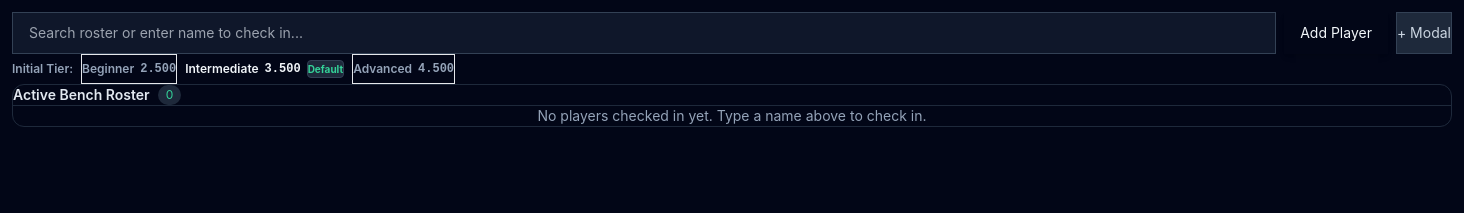
Test: RosterCheckInList › toggles player status from QUEUED to RESTING and back
Type "Greysia Polii" into the field with placeholder "Search roster or enter name to check in..." at (644, 33), box [12,12,1276,54]
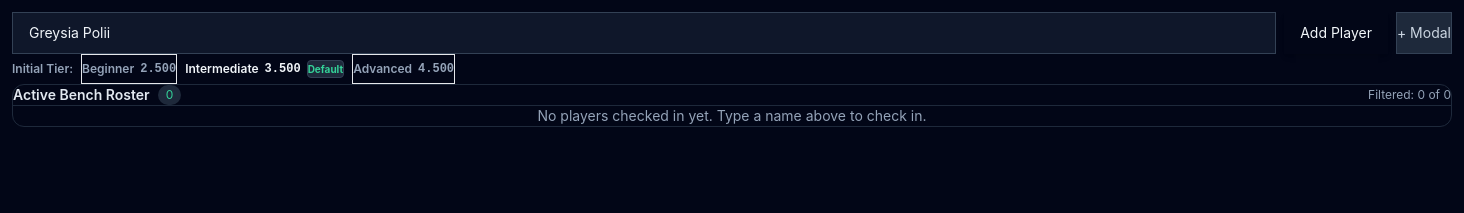
Click the button "Add Player" at (1336, 33), box [1284,12,1388,54]
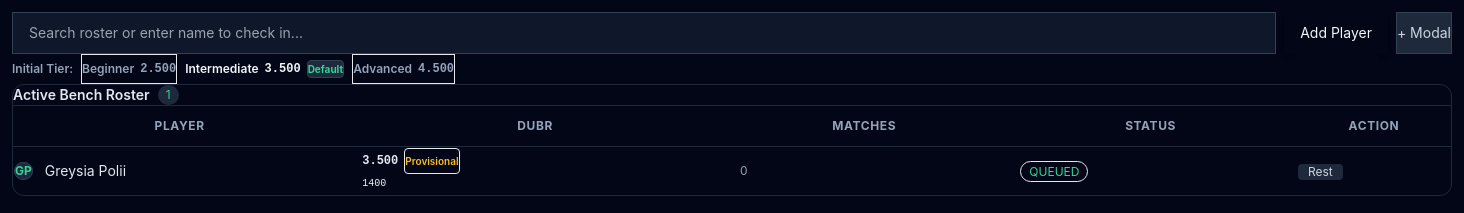
Expected: the text "QUEUED" is shown, [1020,161,1088,182]
Click the button with aria-label "Toggle status for Greysia Polii" at (1320, 172), box [1298,164,1343,180]
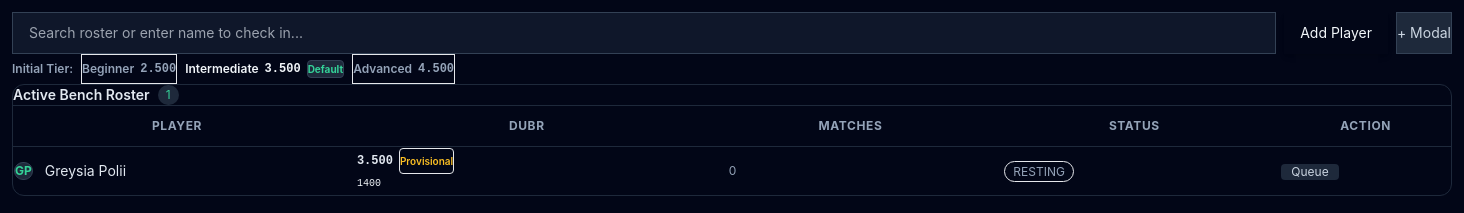
Expected: the text "RESTING" is shown, [1004,161,1074,182]
